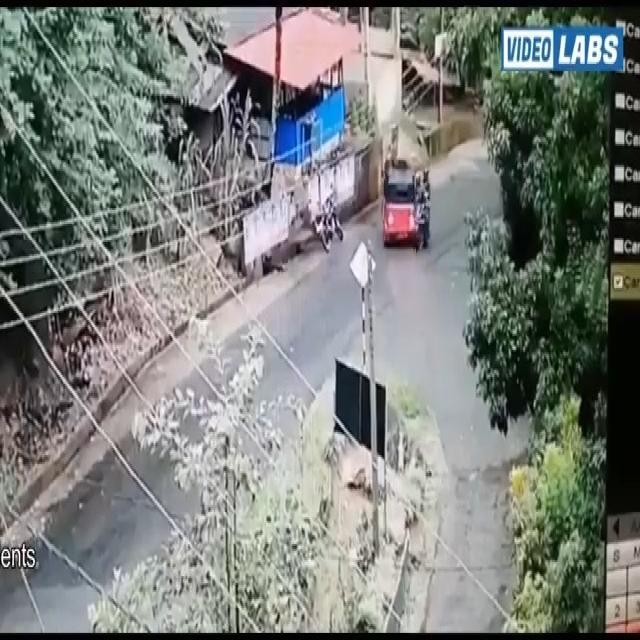multiple_accident: (363, 127, 446, 273)
